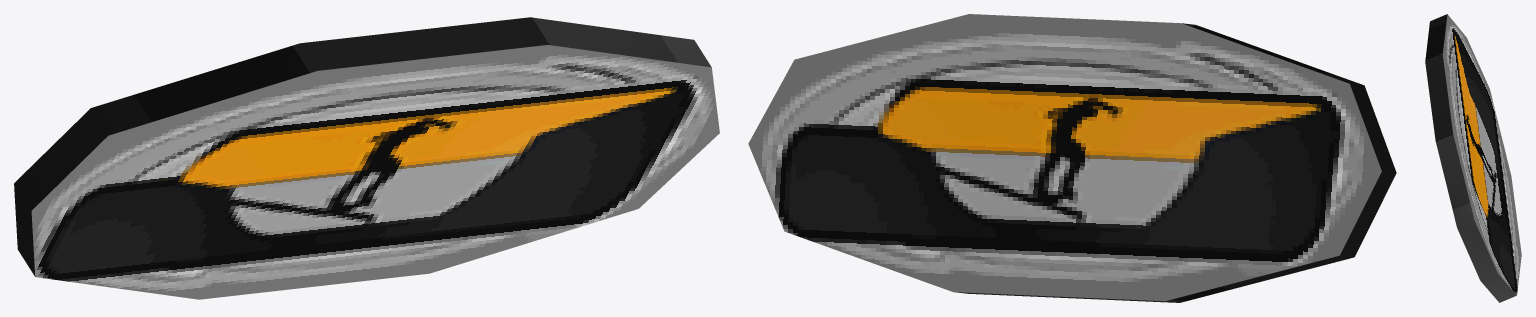
The model's file is ps2_save-icons_tonyhawksproskater4-park.glb.
3 renders of one model, left to right at view 1: azimuth 30°, elevation 25°; view 2: azimuth 150°, elevation 25°; view 3: azimuth 270°, elevation 25°, orthographic. The views are drawn at different scales.
Parts seen in each view (by area): view 1: parked.ico; view 2: parked.ico; view 3: parked.ico.
Part boxes in pixels (<box>): parked.ico: <box>14,17,719,299</box>; parked.ico: <box>748,14,1396,302</box>; parked.ico: <box>1425,14,1521,302</box>.
Size of the model in its own units: 5 by 2.14 by 1.16.
1 material, 1 textured.
